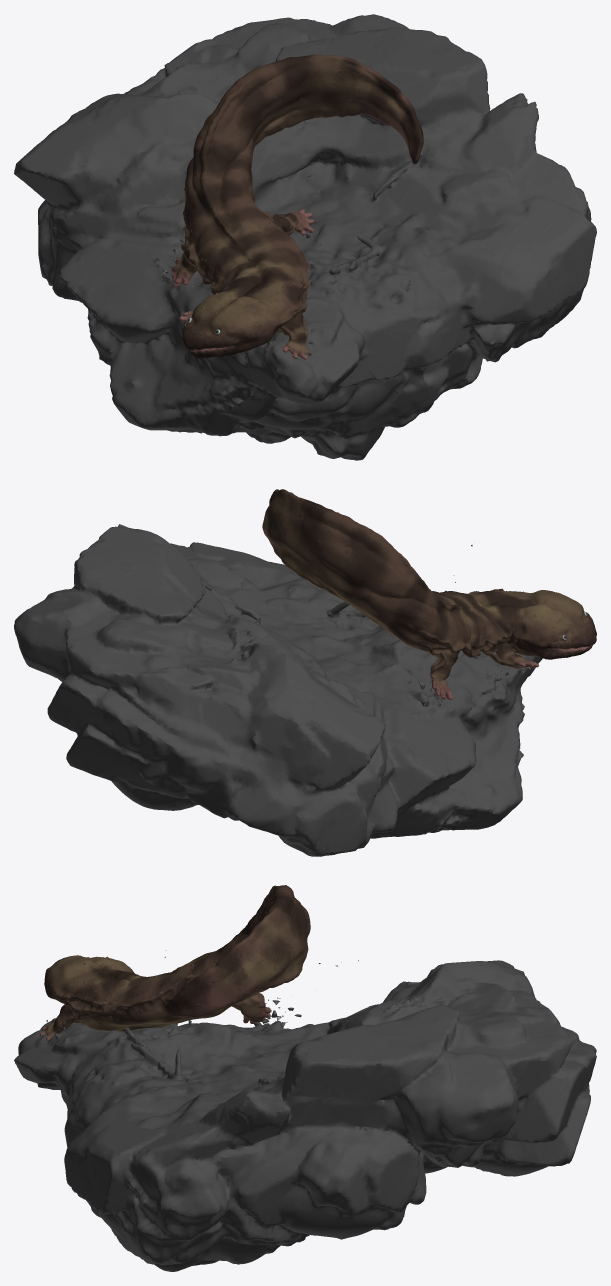
The model's file is chinese-giant-salamander.glb.
The picture shows the model from 3 angles, top to bottom: view 1: azimuth 30°, elevation 25°; view 2: azimuth 150°, elevation 25°; view 3: azimuth 270°, elevation 25°; orthographic projection. The views are drawn at different scales.
Parts seen in each view (by area): view 1: Rocks, Salamander; view 2: Rocks, Salamander; view 3: Rocks, Salamander.
Boxes of the visible parts, x1,y1,x2,y2 form: Rocks: (14, 14, 596, 460); Salamander: (171, 54, 423, 359); Rocks: (14, 524, 542, 856); Salamander: (262, 489, 596, 699); Rocks: (14, 950, 596, 1271); Salamander: (40, 885, 310, 1040).
Size of the model in its own units: 10.87 by 8.27 by 12.06.
3 materials, 3 textured.
